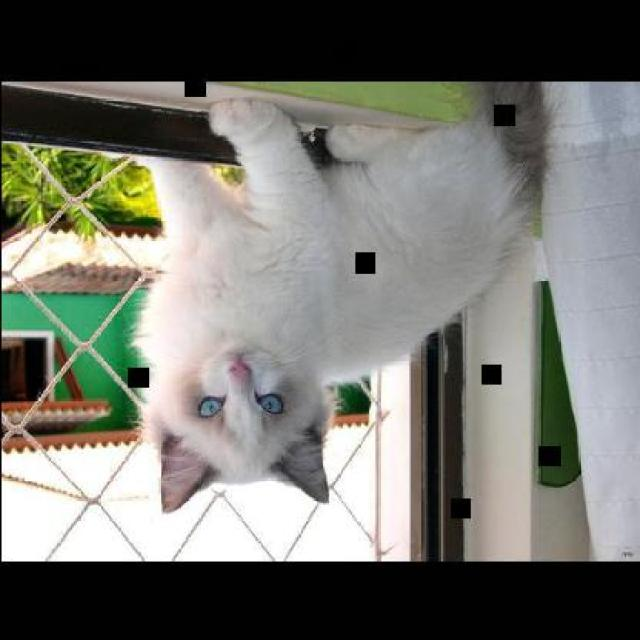unauthorized: (123, 80, 554, 514)
